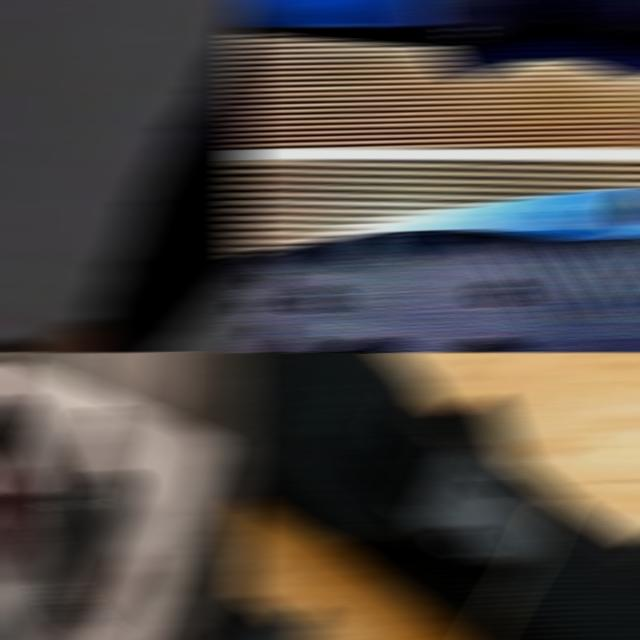Knife: (0, 406, 125, 640), (0, 392, 112, 637)
Knife_Handle: (0, 292, 136, 352)
